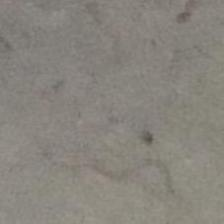Non_Crack: (28, 42, 200, 214)
